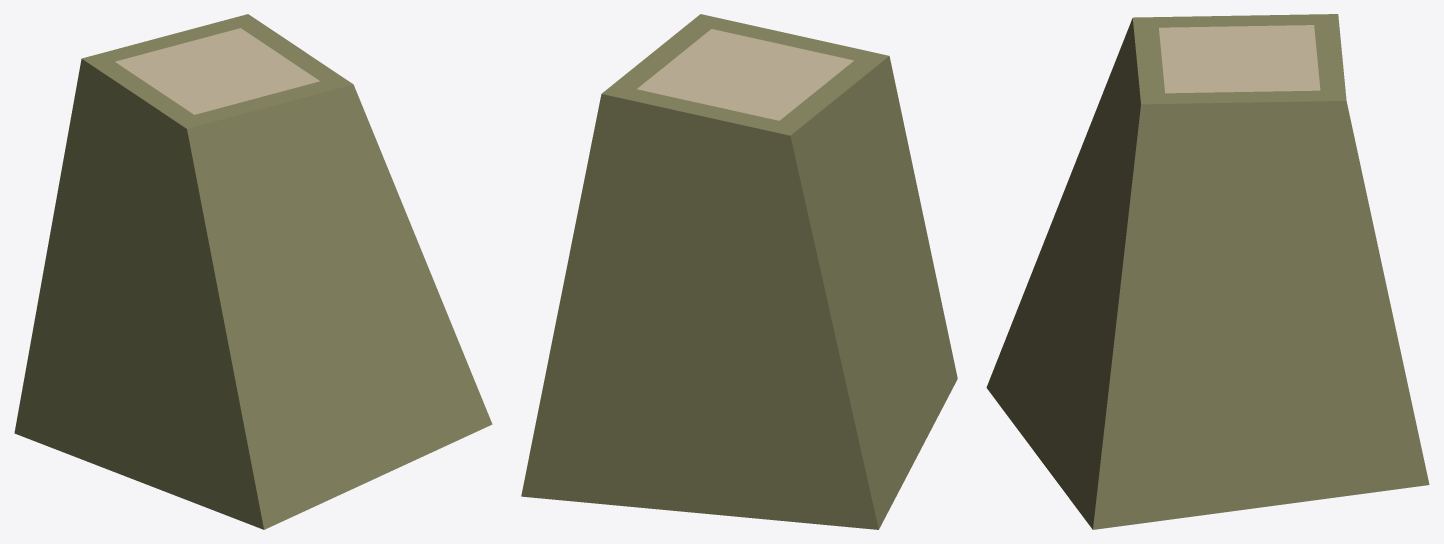
File: Dead_Stump_01_LOD.fbx
3 views of the same model, side by side, from view 1: azimuth 30°, elevation 25°; view 2: azimuth 150°, elevation 25°; view 3: azimuth 270°, elevation 25° (orthographic). The views are drawn at different scales.
Parts seen in each view (by area): view 1: Dead_Stump_01_LOD0; view 2: Dead_Stump_01_LOD0; view 3: Dead_Stump_01_LOD0.
Part boxes in pixels (x1,y1,x2,y2): Dead_Stump_01_LOD0: (14, 14, 492, 529); Dead_Stump_01_LOD0: (521, 14, 957, 529); Dead_Stump_01_LOD0: (986, 14, 1429, 529).
Size of what is drawn, in the model's own units: 140 by 128 by 140.
